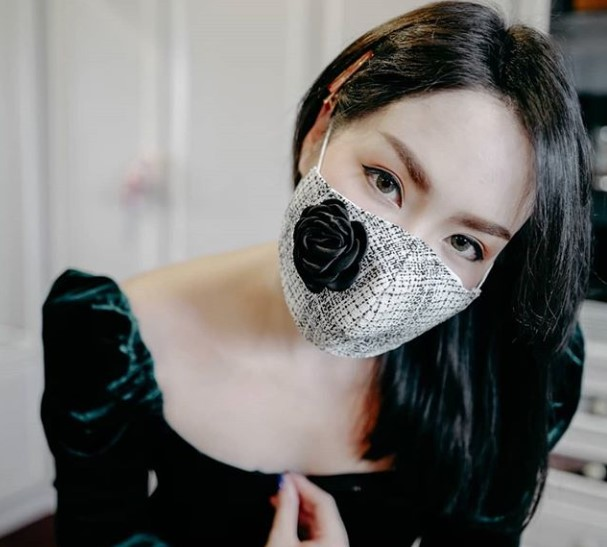face_with_mask: (274, 16, 564, 363)
